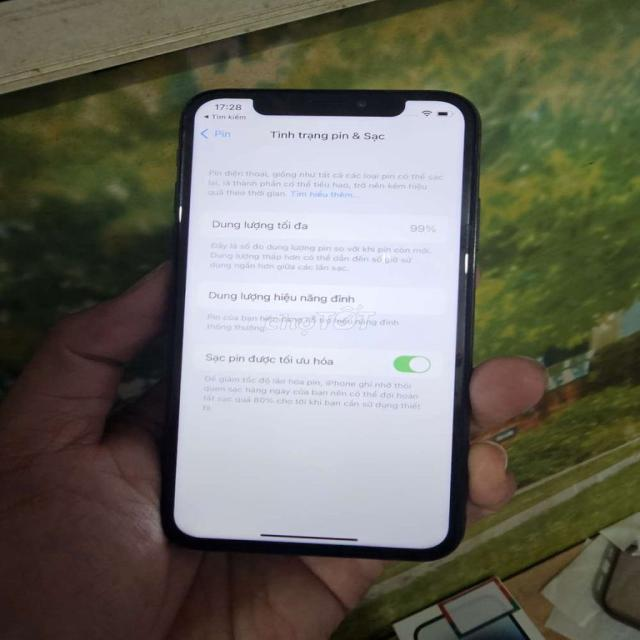gen_x_xs: (162, 89, 480, 559)
